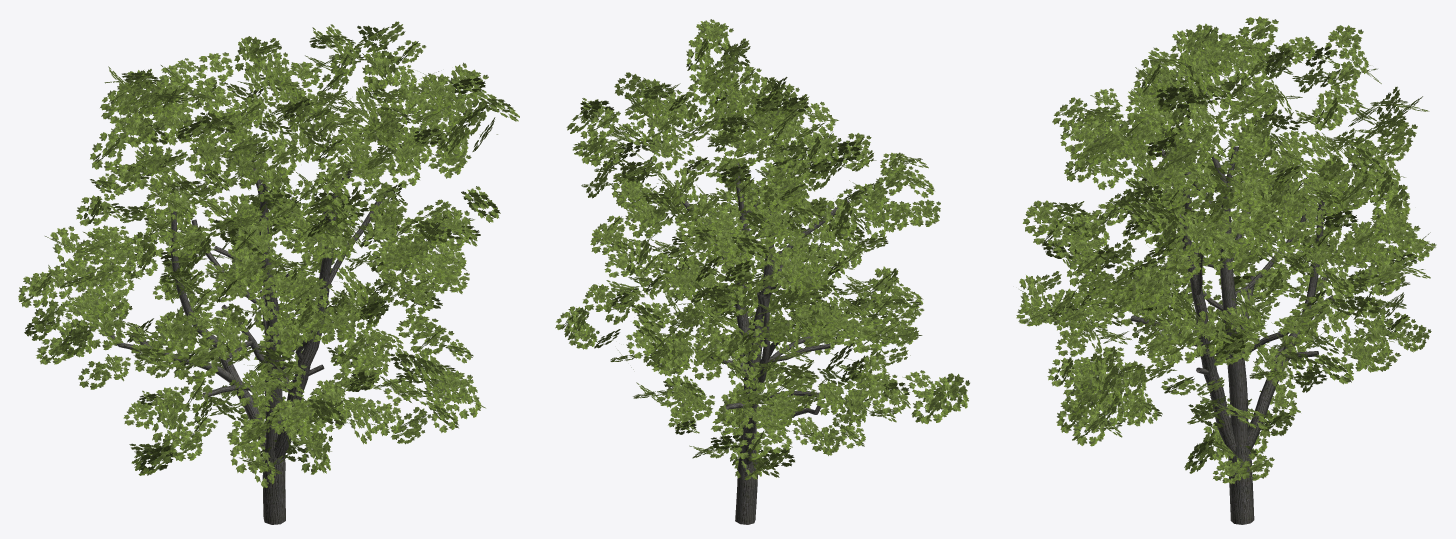
File: sugar_maple_3_hero.obj
The picture shows the model from 3 angles, left to right: view 1: azimuth 30°, elevation 25°; view 2: azimuth 150°, elevation 25°; view 3: azimuth 270°, elevation 25°; orthographic projection. The views are drawn at different scales.
Parts seen in each view (by area): view 1: Leaves, Branches, Trunk; view 2: Leaves, Branches, Trunk; view 3: Leaves, Branches, Trunk.
Boxes of the visible parts, x1,y1,x2,y2 form: Leaves: (18,21,519,488); Branches: (105,168,387,459); Trunk: (246,227,285,524); Leaves: (555,19,969,480); Branches: (679,163,830,464); Trunk: (735,200,848,524); Leaves: (1016,16,1436,484); Branches: (1130,146,1334,453); Trunk: (1156,144,1254,524).
Bounding box in the file's own units: 42.46 × 47.46 × 36.99.
Materials: 2 (2 with a texture image).
